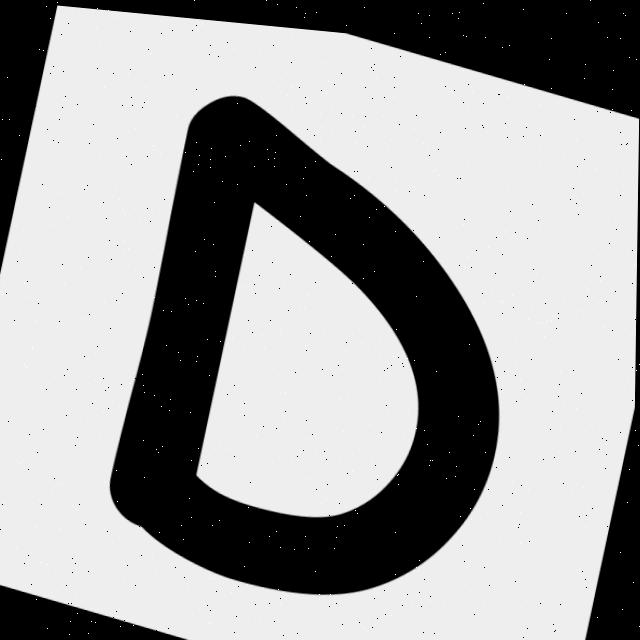D: (111, 91, 500, 588)
